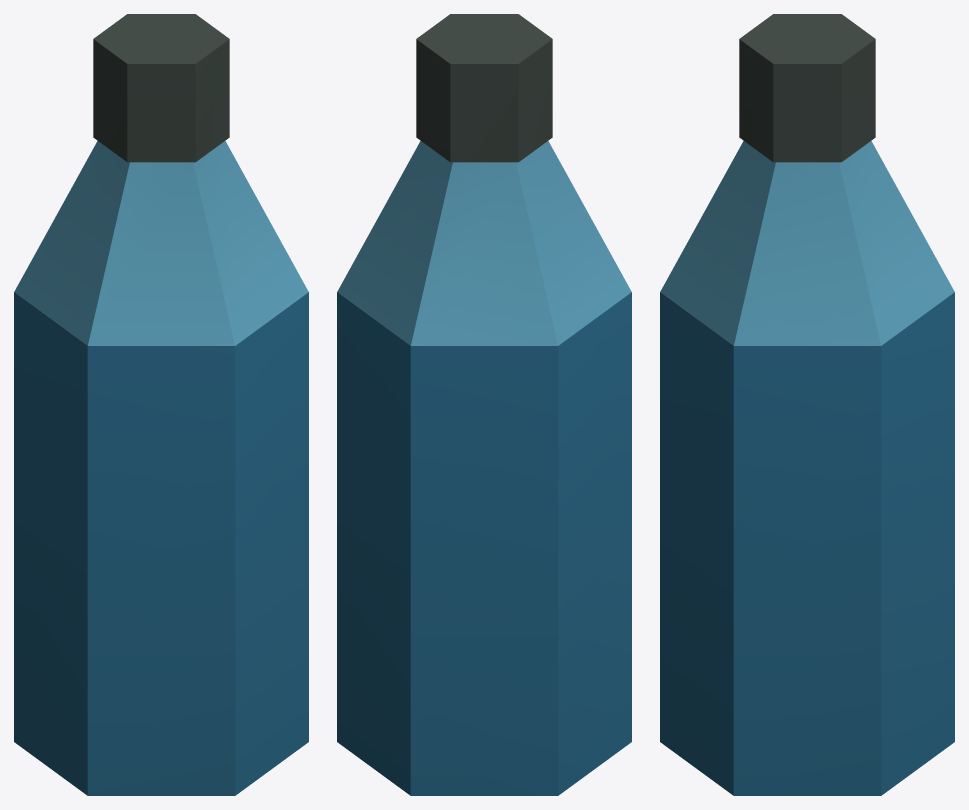
Rendered from custom-lixo-garrafa.glb.
The picture shows the model from 3 angles, left to right: view 1: azimuth 30°, elevation 25°; view 2: azimuth 150°, elevation 25°; view 3: azimuth 270°, elevation 25°; orthographic projection.
Visible parts, largest first — view 1: lixo-garrafa; view 2: lixo-garrafa; view 3: lixo-garrafa.
Boxes of the visible parts, x1,y1,x2,y2 form: lixo-garrafa: (14, 14, 308, 795); lixo-garrafa: (337, 14, 631, 795); lixo-garrafa: (660, 14, 954, 795).
Size of the model in its own units: 0.1645 by 0.5 by 0.19.
